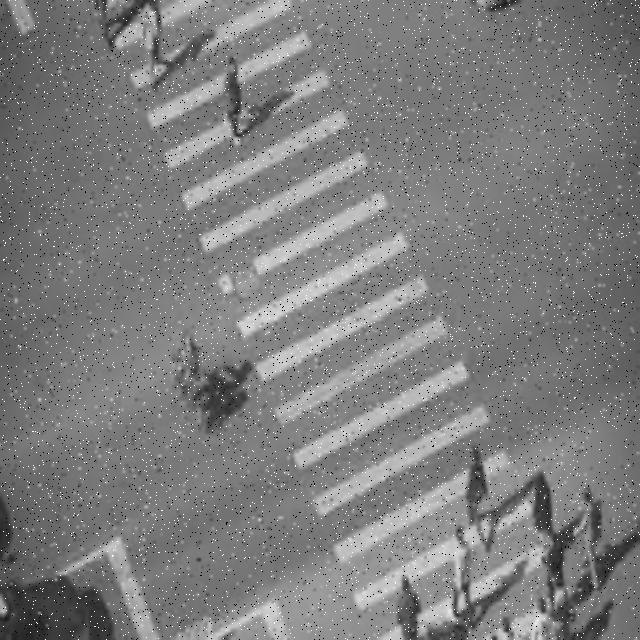crosswalk: (84, 0, 589, 640)
